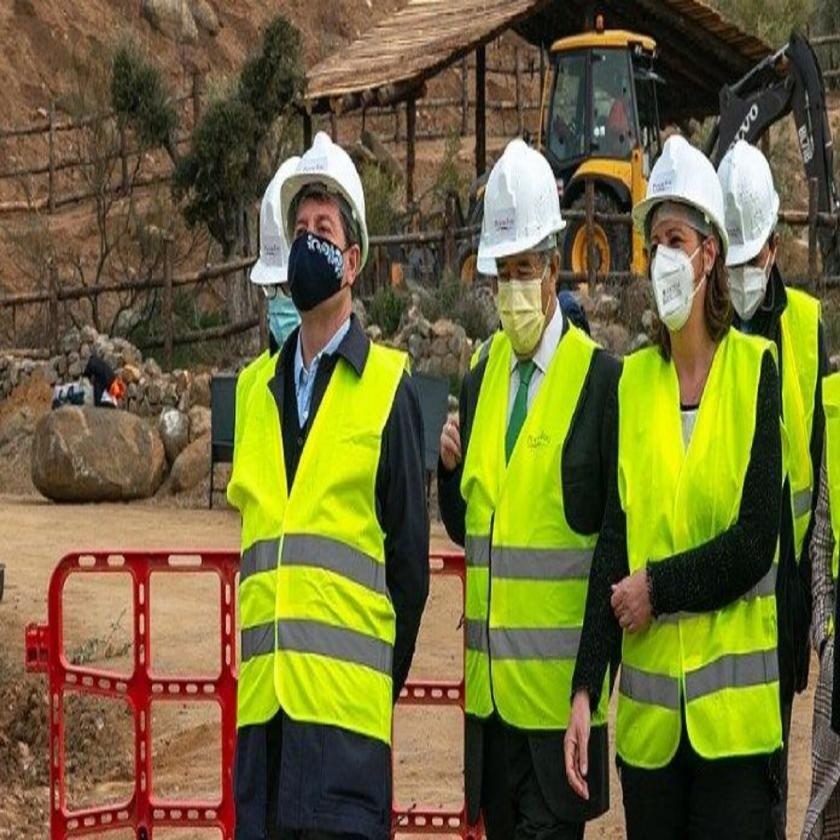Con_casco: (476, 140, 568, 346), (641, 137, 729, 345), (282, 130, 378, 316), (716, 143, 784, 313)
